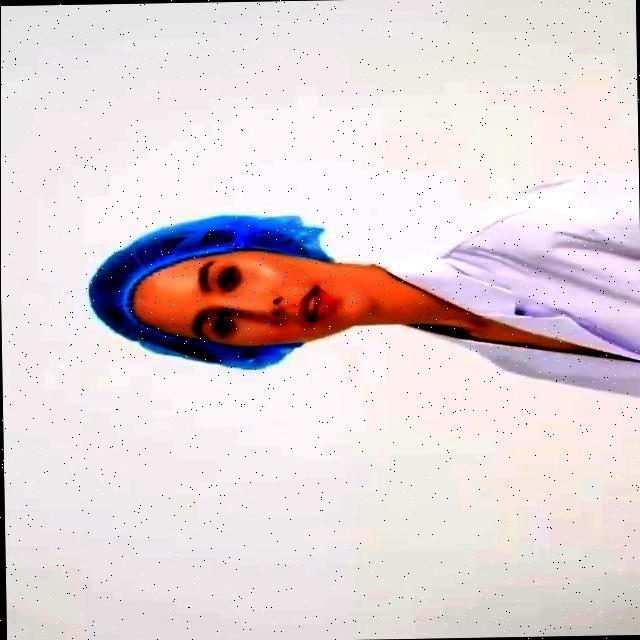gloves: (90, 227, 192, 357)
no_hairnet: (252, 253, 334, 345)
